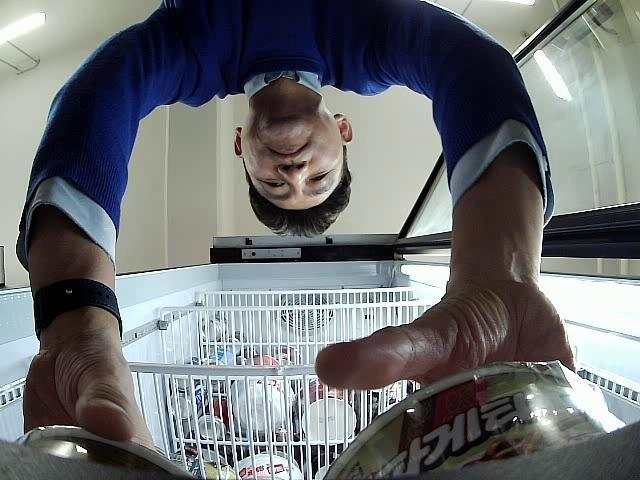03_chapagetti_L: (325, 361, 625, 480)
